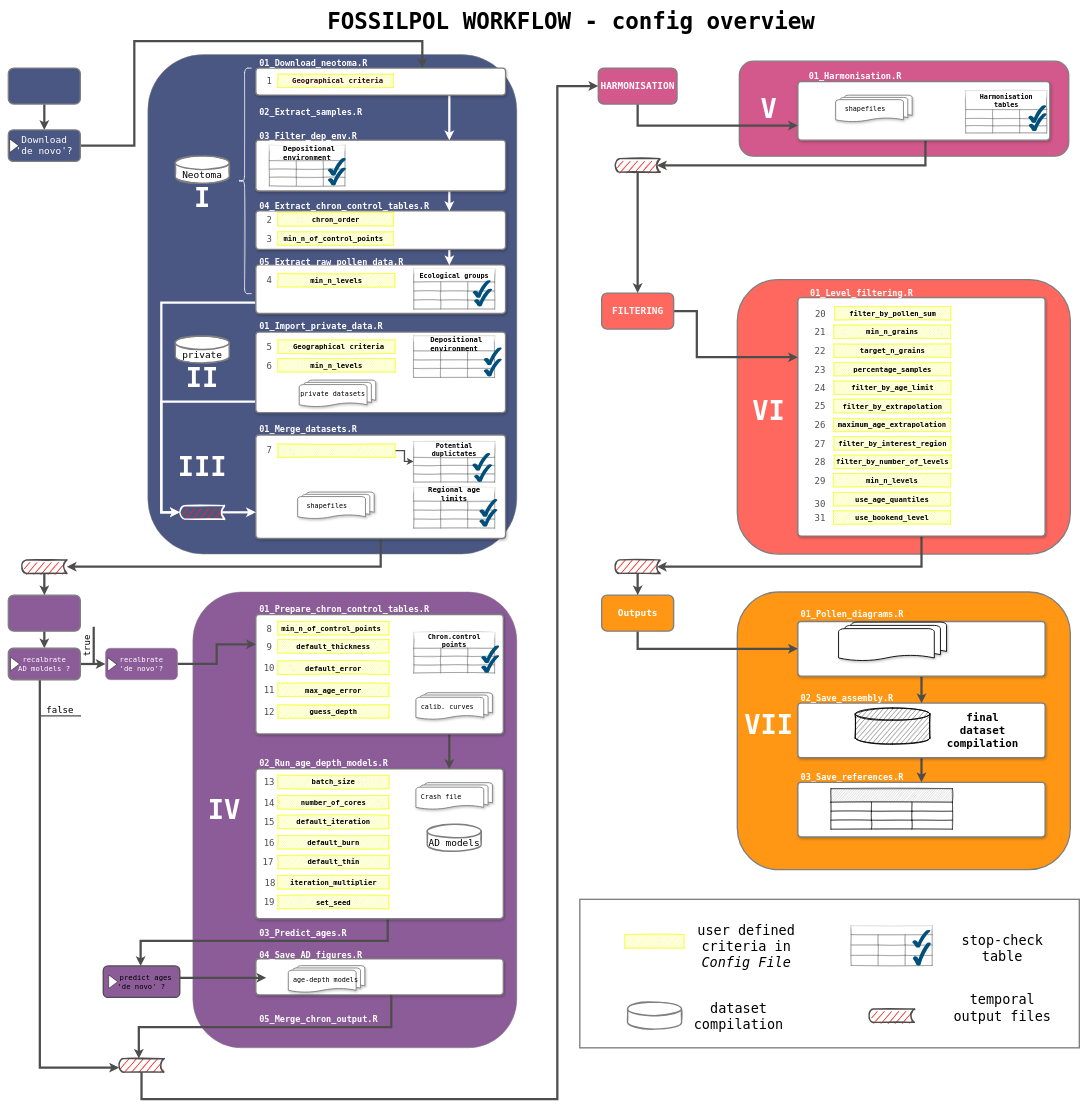
Image size: 1088x1112. Some labels were removed from this diagram. The shapes that lost their labels are listed below. From the top down, each one's centre as x and y in pixels, then its label:
the point at 44,86: SOURCING
the point at 336,450: detect_duplicates
the point at 44,613: CHRONOLOGIES
the point at 893,642: Pollen diagrams
the point at 891,808: citation metadata
